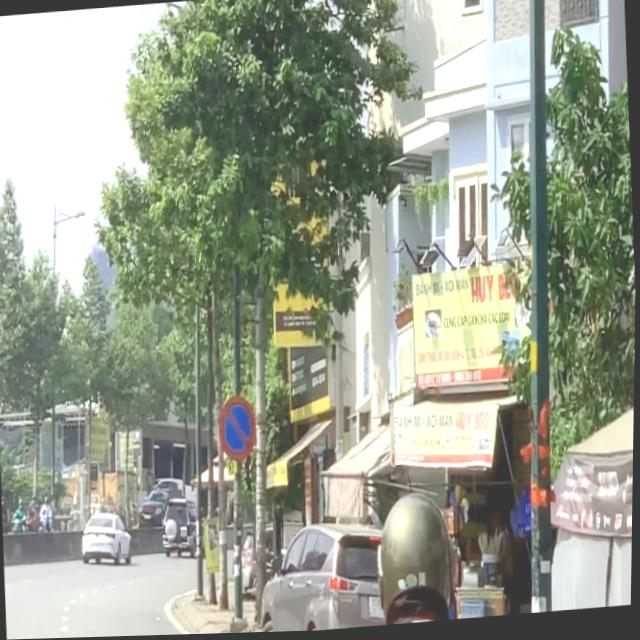Cam do xe: (218, 394, 260, 465)
